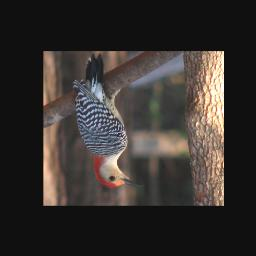Woodpecker: (72, 56, 146, 189)
